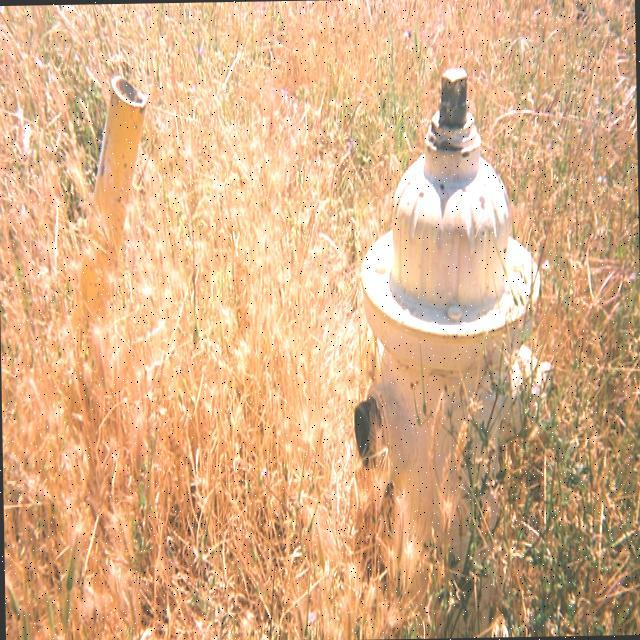fire_hydrant: (352, 63, 552, 593)
